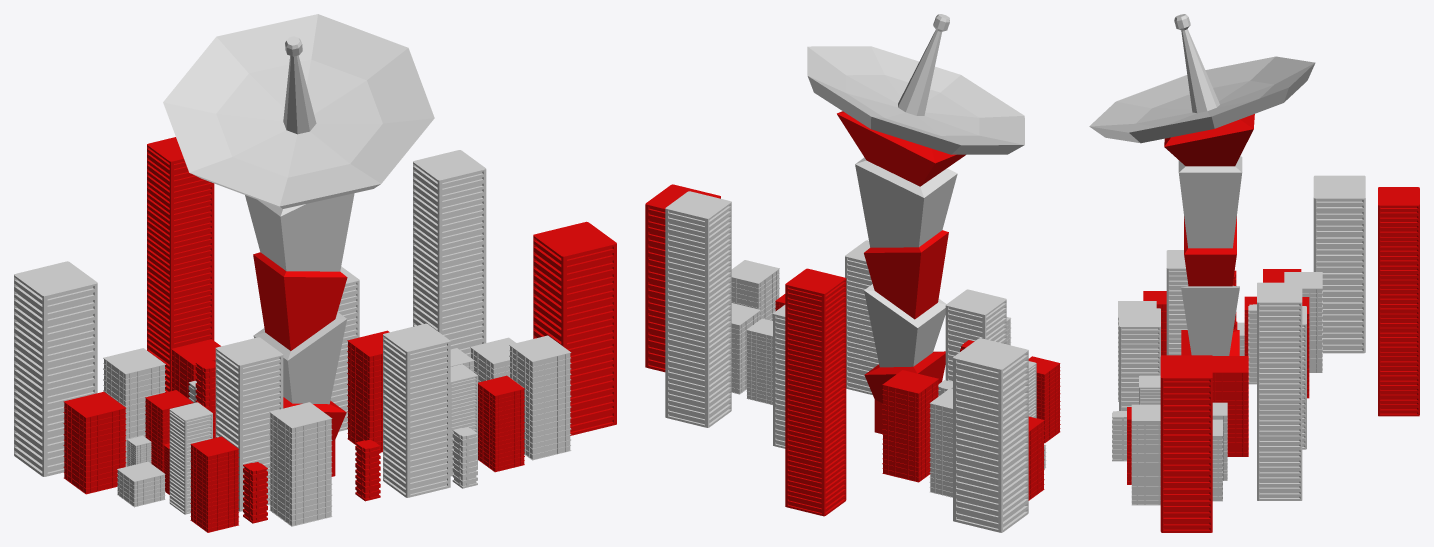
The model's file is towerWithBuildings.fbx.
3 views of the same model, side by side, from view 1: azimuth 30°, elevation 25°; view 2: azimuth 150°, elevation 25°; view 3: azimuth 270°, elevation 25° (orthographic). The views are drawn at different scales.
Parts seen in each view (by area): view 1: Cube, Building.016, Building.019, Building.018, Building.017, Building.007, Building.001, Building.005, Building.030, Building.021, Building.013, Building.029 (+13 smaller); view 2: Cube, Building.018, Building.017, Building.016, Building.004, Building.019, Building.007, Building.001, Building.020, Building.030, Building.025, Building.003 (+4 smaller); view 3: Cube, Building.018, Building.017, Building.019, Building.016, Building.007, Building.030, Building.006, Building.001, Building.020, Building.031, Building.011 (+6 smaller).
Boxes of the visible parts, bbox=[...] form: Cube: bbox=[163, 14, 434, 476]; Building.016: bbox=[14, 261, 97, 476]; Building.019: bbox=[533, 221, 616, 435]; Building.018: bbox=[413, 150, 486, 357]; Building.017: bbox=[147, 137, 214, 392]; Building.007: bbox=[383, 323, 450, 497]; Building.001: bbox=[215, 337, 283, 511]; Building.005: bbox=[269, 402, 332, 526]; Building.030: bbox=[509, 335, 571, 460]; Building.021: bbox=[63, 391, 126, 494]; Building.013: bbox=[190, 436, 239, 532]; Building.029: bbox=[478, 375, 524, 472]; Cube: bbox=[807, 14, 1024, 433]; Building.018: bbox=[665, 191, 731, 427]; Building.017: bbox=[785, 268, 846, 516]; Building.016: bbox=[953, 338, 1028, 532]; Building.004: bbox=[882, 370, 938, 482]; Building.019: bbox=[645, 184, 720, 372]; Building.007: bbox=[845, 240, 878, 394]; Building.001: bbox=[945, 289, 1006, 381]; Building.020: bbox=[929, 388, 952, 497]; Building.030: bbox=[731, 260, 779, 320]; Building.025: bbox=[746, 318, 772, 404]; Building.003: bbox=[773, 305, 785, 448]; Cube: bbox=[1089, 14, 1315, 355]; Building.018: bbox=[1257, 282, 1302, 500]; Building.017: bbox=[1378, 187, 1419, 416]; Building.019: bbox=[1160, 355, 1212, 532]; Building.016: bbox=[1313, 175, 1365, 353]; Building.007: bbox=[1119, 308, 1160, 410]; Building.030: bbox=[1131, 404, 1160, 505]; Building.006: bbox=[1212, 356, 1248, 456]; Building.001: bbox=[1166, 250, 1188, 355]; Building.020: bbox=[1284, 272, 1322, 372]; Building.031: bbox=[1212, 419, 1222, 501]; Building.011: bbox=[1112, 411, 1126, 461].
Bounding box in the file's own units: 35608 × 31802 × 24554.
